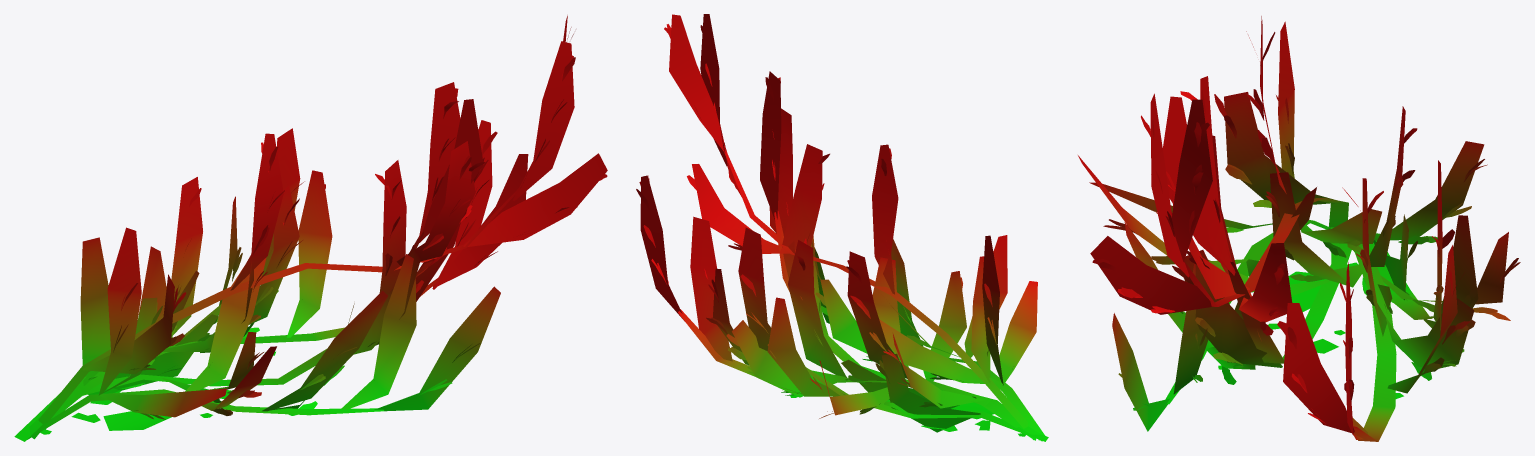
File: River Saltbush_LOD3_Var6_vdfpcgbia.fbx
The picture shows the model from 3 angles, left to right: view 1: azimuth 30°, elevation 25°; view 2: azimuth 150°, elevation 25°; view 3: azimuth 270°, elevation 25°; orthographic projection. The views are drawn at different scales.
Parts seen in each view (by area): view 1: _c7kx_Var6_LOD3; view 2: _c7kx_Var6_LOD3; view 3: _c7kx_Var6_LOD3.
Part boxes in pixels (left/top/right/bottom): _c7kx_Var6_LOD3: left=14, top=15, right=607, bottom=441; _c7kx_Var6_LOD3: left=636, top=14, right=1048, bottom=441; _c7kx_Var6_LOD3: left=1078, top=16, right=1520, bottom=441.
Size of the model in its own units: 33.43 by 21.91 by 20.04.
